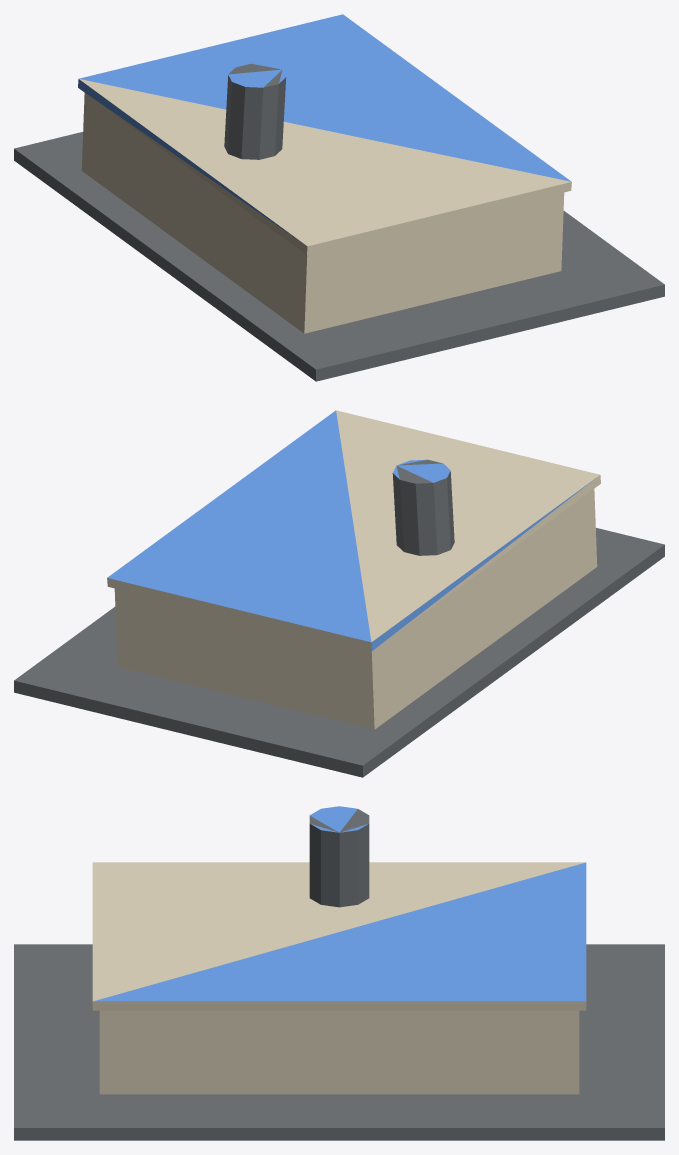
Rendered from meridian_power_plant_heavily_damaged.glb.
The picture shows the model from 3 angles, top to bottom: view 1: azimuth 30°, elevation 25°; view 2: azimuth 150°, elevation 25°; view 3: azimuth 270°, elevation 25°; orthographic projection. The views are drawn at different scales.
Parts seen in each view (by area): view 1: hull; view 2: hull; view 3: hull.
Part boxes in pixels (bbox=[...]): hull: bbox=[14, 14, 664, 381]; hull: bbox=[14, 410, 664, 777]; hull: bbox=[14, 806, 664, 1140].
Bounding box in the file's own units: 7.6 × 3.6 × 11.4.
